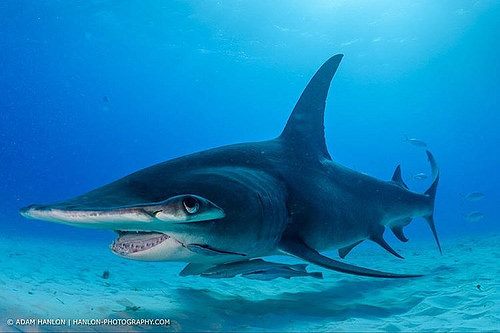shark: (15, 22, 465, 299)
